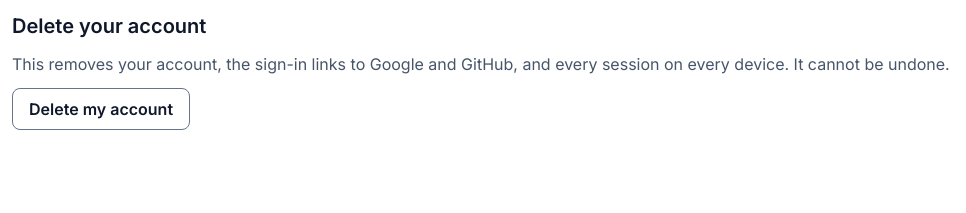
DeleteAccount › reports a failure and keeps the account
This screenshot has width=966, height=213.
Click the button "Delete my account".
click(101, 109)  # box [12, 88, 190, 130]
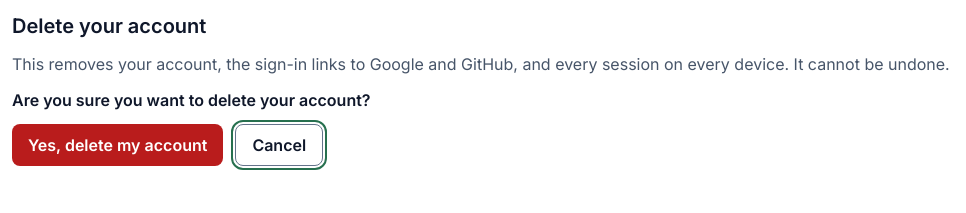
Click the button "Yes, delete my account".
click(118, 145)  # box [12, 124, 223, 166]
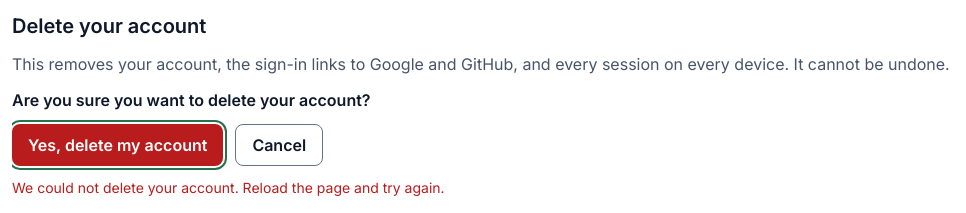
Expected: the message shows "could not delete your account", [12, 179, 445, 196]
